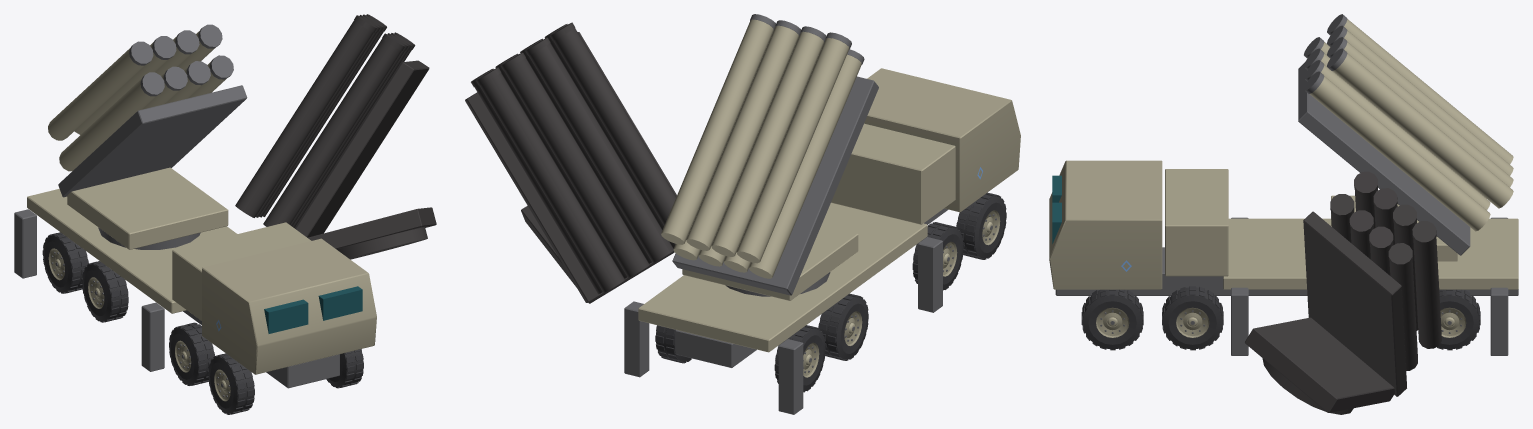
Rendered from samLauncher__cheongung_ii.glb.
3 views of the same model, side by side, from view 1: azimuth 30°, elevation 25°; view 2: azimuth 150°, elevation 25°; view 3: azimuth 270°, elevation 25° (orthographic). The views are drawn at different scales.
Visible parts, largest first — view 1: Hull_Mesh, Wreck, Gun_Mesh, Turret_Mesh, Wheel_L3_Mesh, Wheel_L1_Mesh, Wheel_L2_Mesh, Wheel_L0_Mesh, Wheel_R3_Mesh; view 2: Hull_Mesh, Gun_Mesh, Wreck, Turret_Mesh, Wheel_L1_Mesh, Wheel_L3_Mesh, Wheel_L2_Mesh, Wheel_L0_Mesh, Wheel_R0_Mesh; view 3: Hull_Mesh, Wreck, Gun_Mesh, Wheel_R2_Mesh, Wheel_R3_Mesh, Wheel_R0_Mesh, Turret_Mesh.
Boxes of the visible parts, x1=… form: Hull_Mesh: x1=14, y1=188, x2=376, y2=388; Wreck: x1=62, y1=14, x2=436, y2=413; Gun_Mesh: x1=48, y1=24, x2=247, y2=197; Turret_Mesh: x1=67, y1=167, x2=228, y2=249; Wheel_L3_Mesh: x1=208, y1=353, x2=254, y2=414; Wheel_L1_Mesh: x1=82, y1=261, x2=128, y2=322; Wheel_L2_Mesh: x1=169, y1=322, x2=214, y2=385; Wheel_L0_Mesh: x1=42, y1=232, x2=88, y2=293; Wheel_R3_Mesh: x1=326, y1=349, x2=363, y2=388; Hull_Mesh: x1=624, y1=68, x2=1020, y2=414; Gun_Mesh: x1=661, y1=14, x2=878, y2=295; Wreck: x1=465, y1=22, x2=984, y2=383; Turret_Mesh: x1=682, y1=225, x2=858, y2=300; Wheel_L1_Mesh: x1=818, y1=293, x2=868, y2=360; Wheel_L3_Mesh: x1=956, y1=192, x2=1006, y2=259; Wheel_L2_Mesh: x1=912, y1=222, x2=963, y2=290; Wheel_L0_Mesh: x1=774, y1=325, x2=825, y2=392; Wheel_R0_Mesh: x1=655, y1=325, x2=691, y2=363; Hull_Mesh: x1=1049, y1=160, x2=1518, y2=355; Wreck: x1=1111, y1=171, x2=1452, y2=414; Gun_Mesh: x1=1298, y1=14, x2=1513, y2=255; Wheel_R2_Mesh: x1=1162, y1=286, x2=1223, y2=350; Wheel_R3_Mesh: x1=1081, y1=289, x2=1143, y2=350; Wheel_R0_Mesh: x1=1437, y1=289, x2=1480, y2=350; Turret_Mesh: x1=1331, y1=195, x2=1457, y2=261.
Size of what is drawn, in the model's own units: 7.62 by 5.72 by 8.5.
